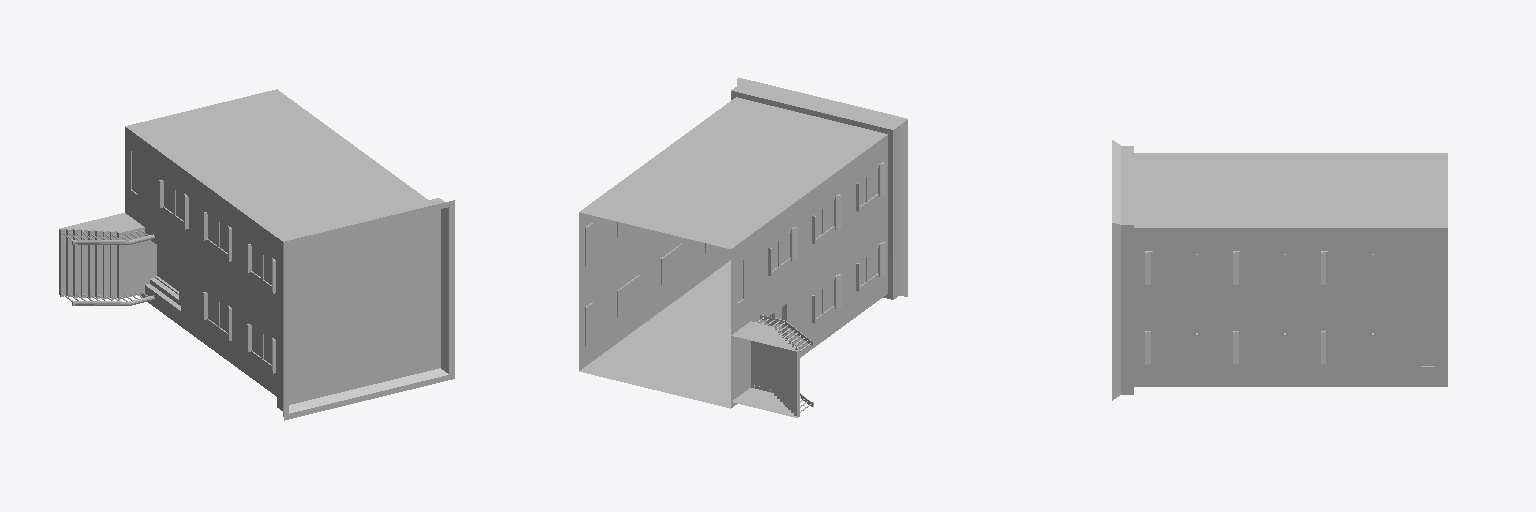
The model's file is building2.obj.
The picture shows the model from 3 angles: view 1: azimuth 30°, elevation 25°; view 2: azimuth 150°, elevation 25°; view 3: azimuth 270°, elevation 25°; orthographic projection.
Parts seen in each view (by area): view 1: building_2; view 2: building_2; view 3: building_2.
Part boxes in pixels (left/top/right/bottom): building_2: left=59, top=89, right=454, bottom=420; building_2: left=579, top=77, right=907, bottom=417; building_2: left=1112, top=140, right=1447, bottom=400.
Bounding box in the file's own units: 9.02 × 6.74 × 11.48.